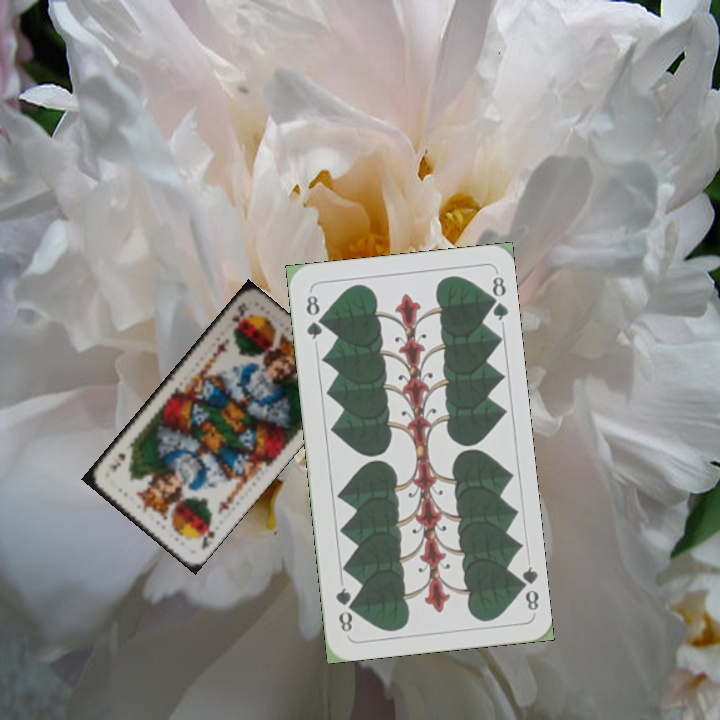G8: (512, 562, 541, 613), (302, 288, 326, 342)
SK: (197, 518, 218, 553), (227, 299, 250, 328)
